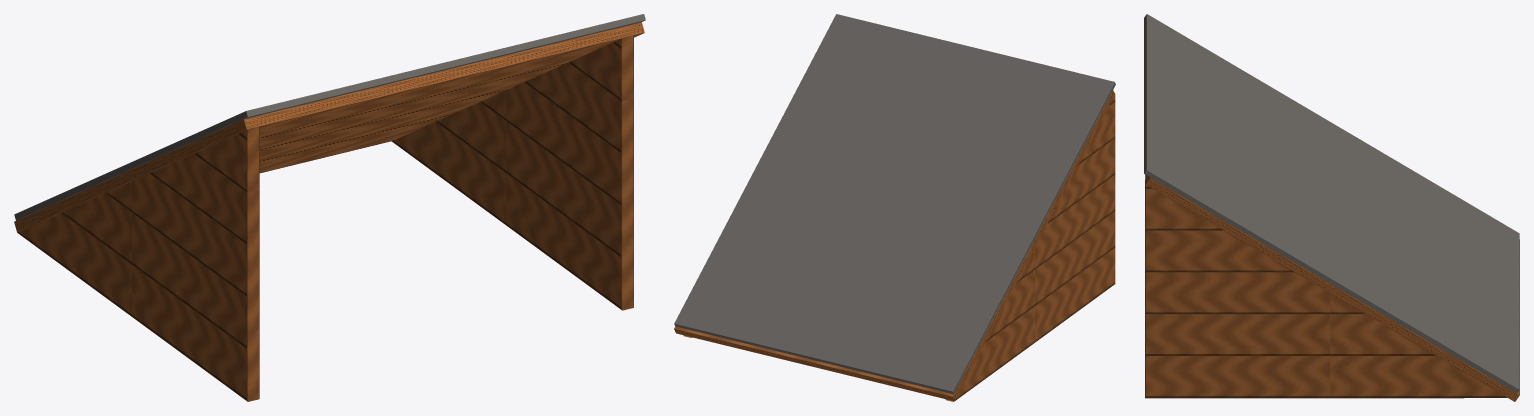
The model's file is paranormal-investigation-house-roof-slope-6fcaba93__26691.glb.
3 views of the same model, side by side, from view 1: azimuth 30°, elevation 25°; view 2: azimuth 150°, elevation 25°; view 3: azimuth 270°, elevation 25° (orthographic). The views are drawn at different scales.
Parts seen in each view (by area): view 1: roof-slope; view 2: roof-slope; view 3: roof-slope.
Part boxes in pixels (<box>): roof-slope: <box>14,14,645,401</box>; roof-slope: <box>674,14,1115,401</box>; roof-slope: <box>1144,14,1519,401</box>.
Bounding box in the file's own units: 2 × 1.39 × 2.03.
2 materials, 1 textured.
